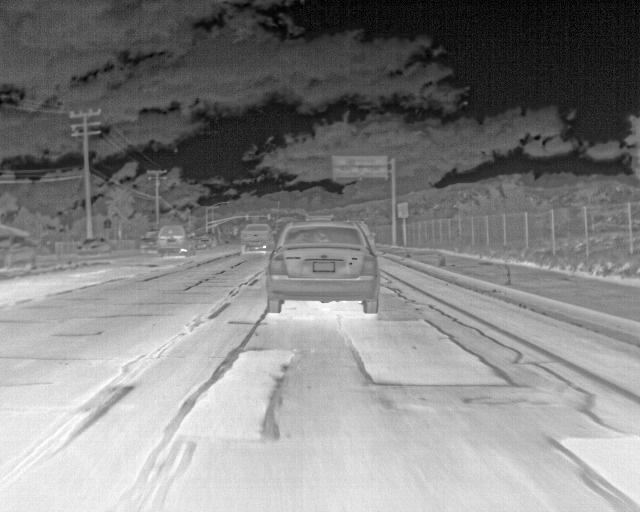car: (268, 219, 381, 314), (0, 220, 36, 272), (155, 224, 194, 255), (238, 222, 273, 251), (78, 237, 111, 255), (138, 230, 156, 249)
